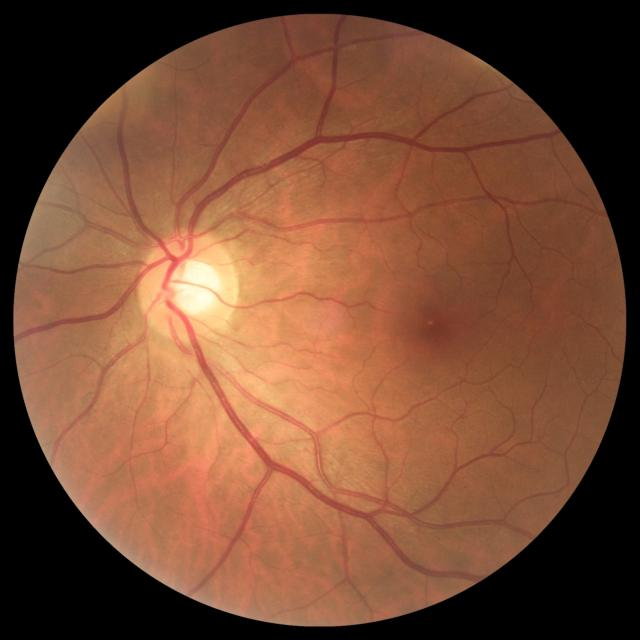OC: (164, 258, 222, 318)
OD: (139, 230, 239, 340)
